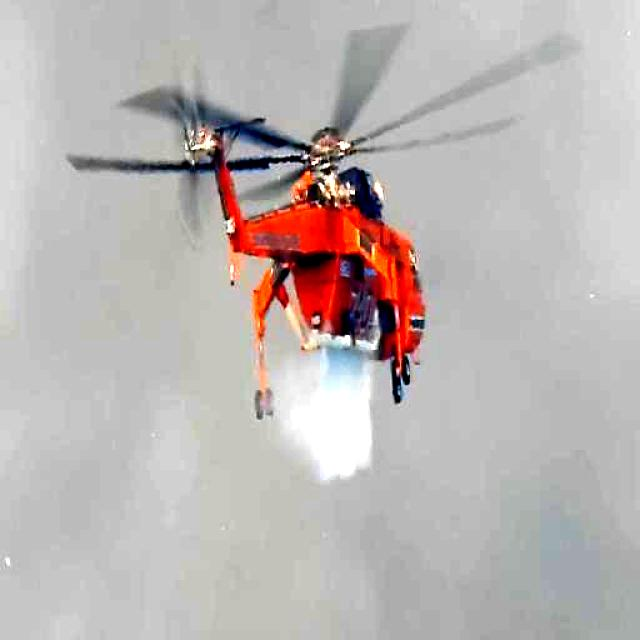drone: (61, 0, 575, 470)
